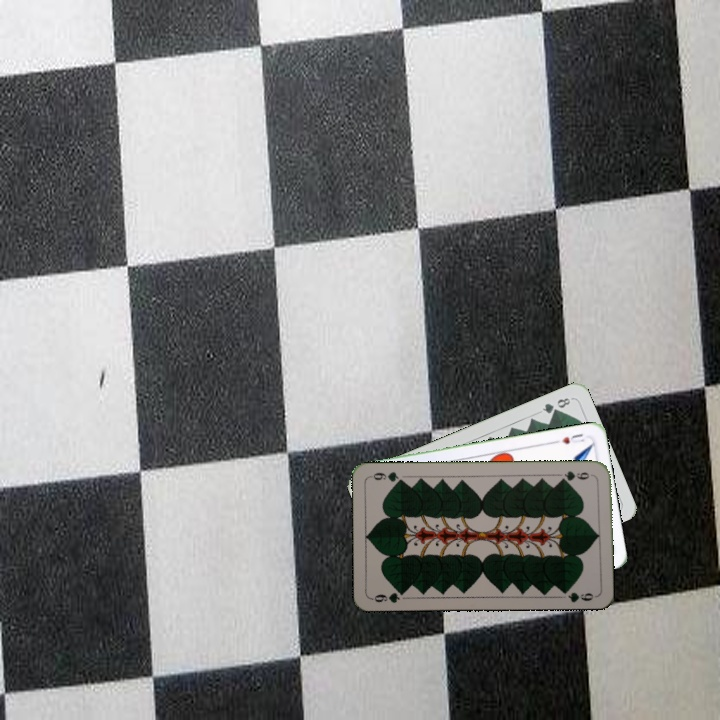G8: (538, 393, 573, 416)
G9: (368, 586, 409, 605), (556, 467, 592, 484)
HU: (550, 429, 587, 446)
